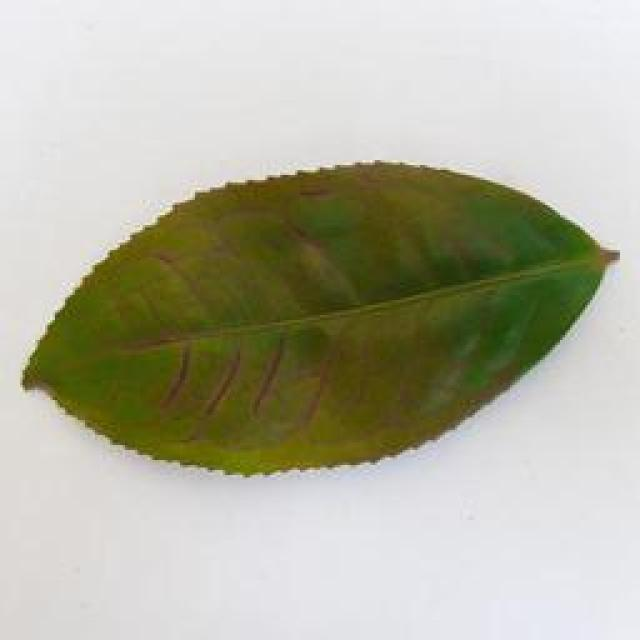Red Leaf Spot: (20, 153, 640, 483)
